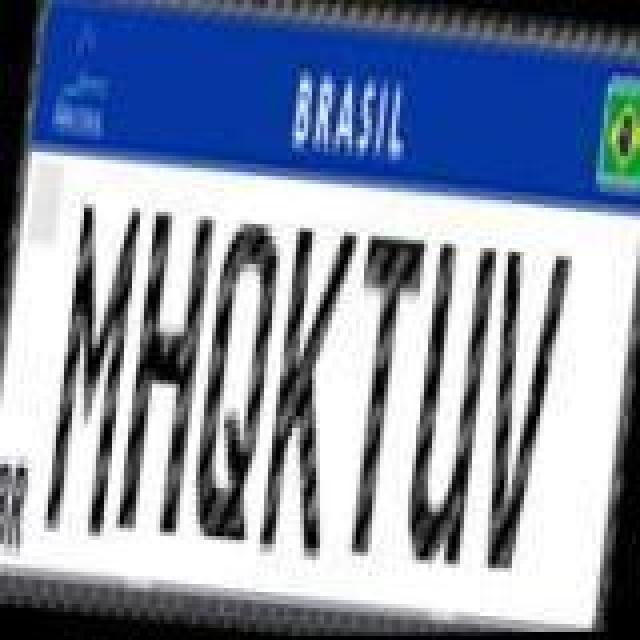H: (116, 204, 220, 544)
K: (256, 220, 360, 564)
M: (40, 194, 144, 538)
Q: (186, 216, 286, 548)
T: (326, 230, 426, 562)
U: (398, 234, 498, 570)
V: (466, 248, 574, 580)
